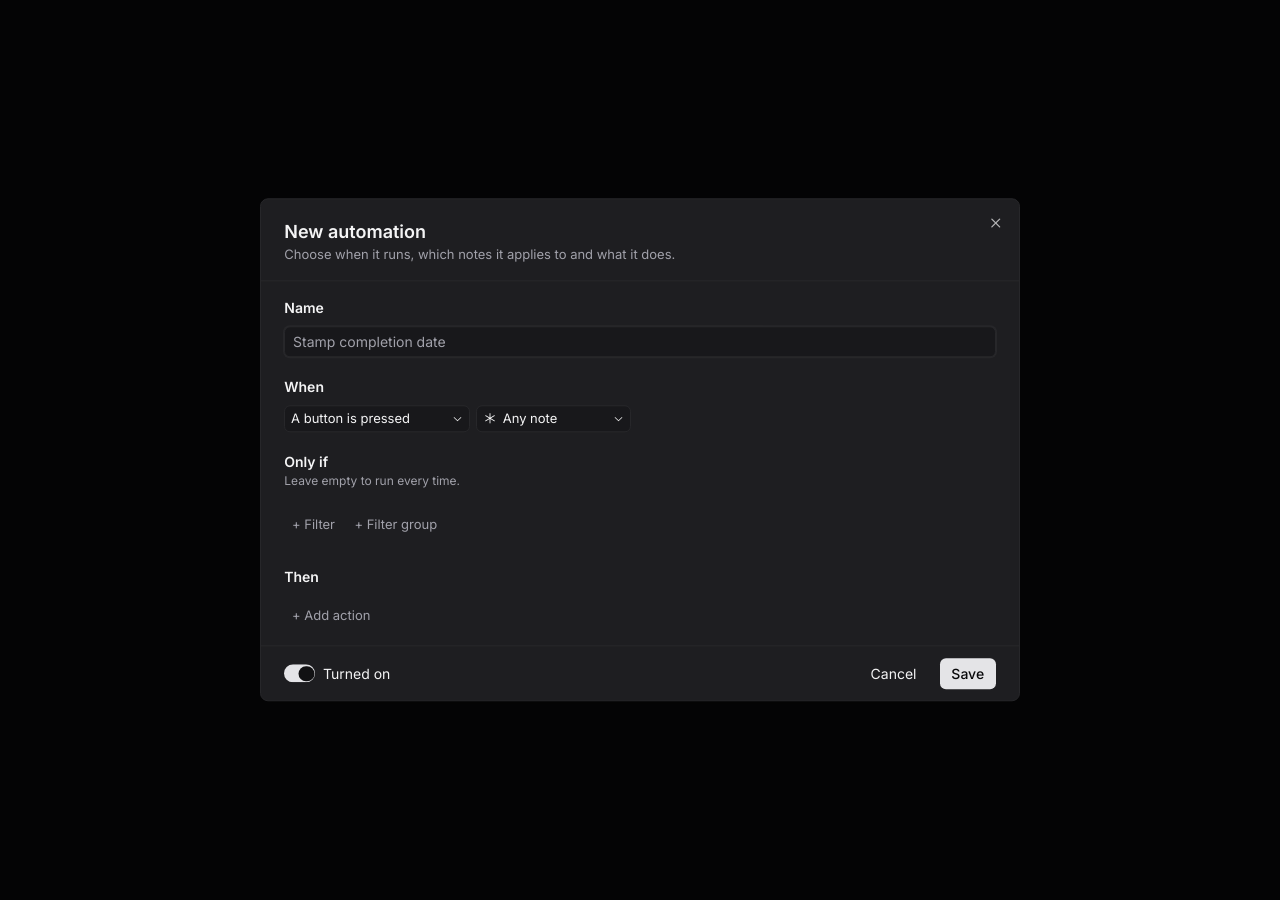
Test: RuleEditorDialog › asks for what is missing before sending
Click the button "Save" at [968, 674], box [940,658,996,689]
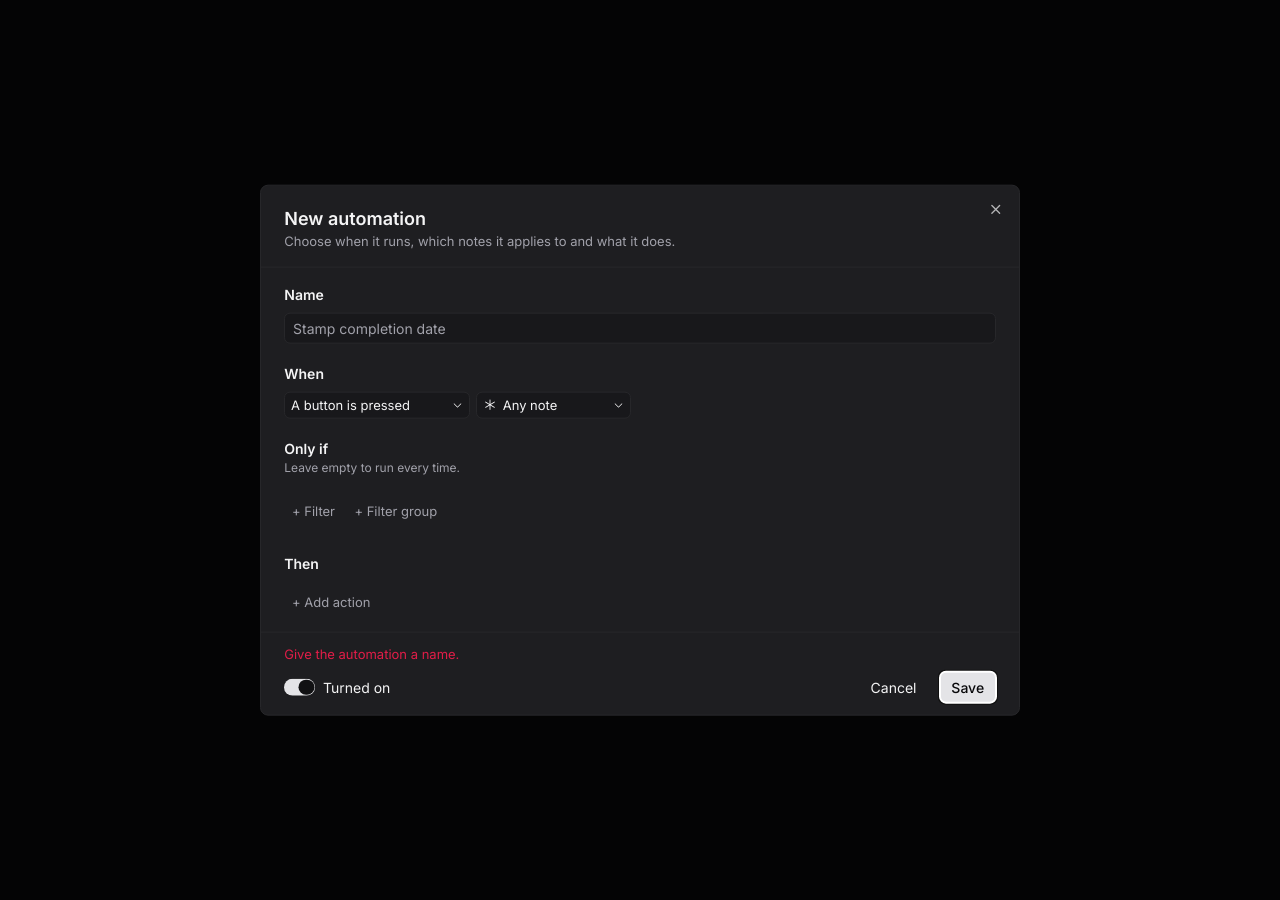
Result: the message reads "Give the automation a name." at [284,646,459,662]
Type "Empty" into the field named "Name" at [640, 328], box [284,312,996,343]
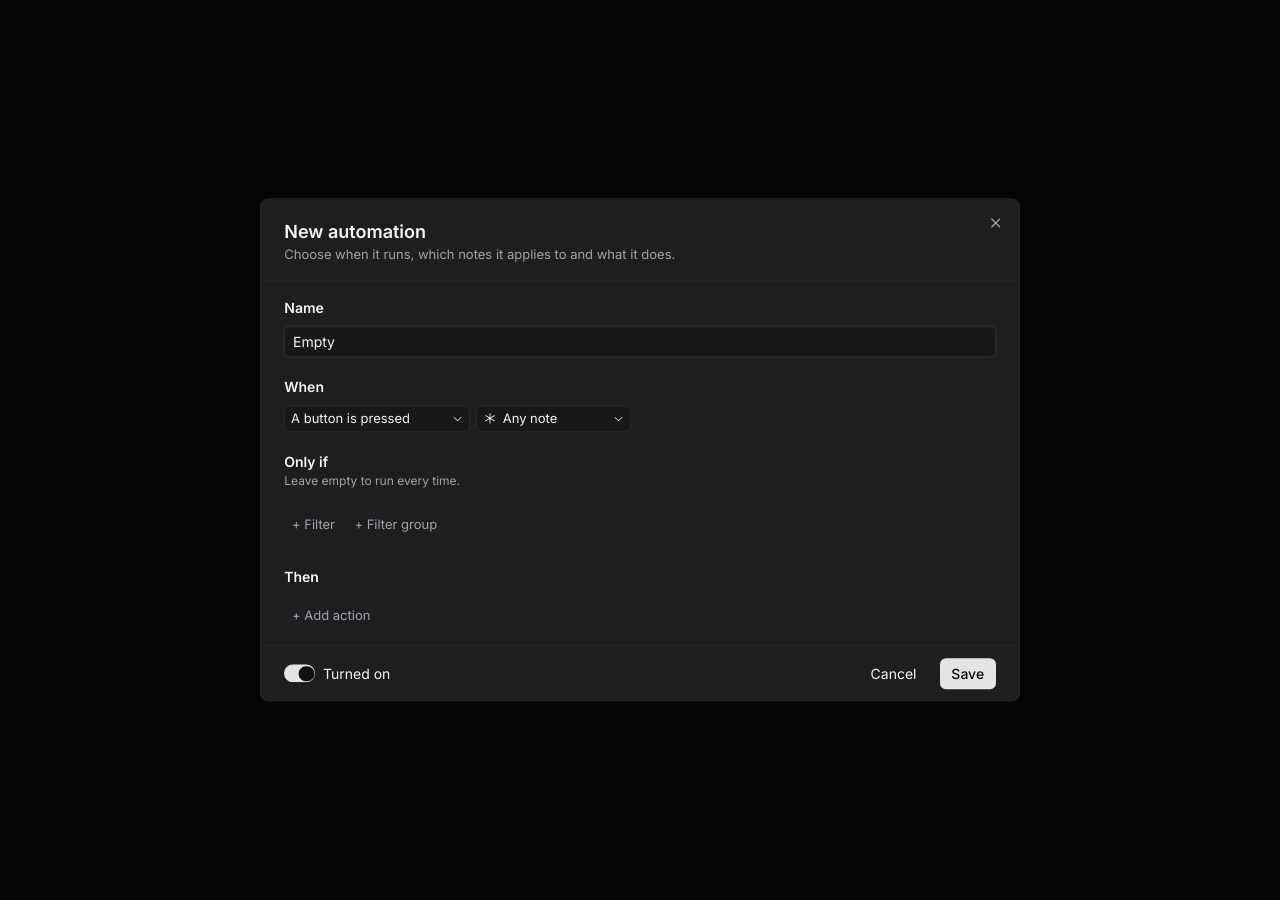
Result: the message "Give the automation a name." is gone
Click the button "Save" at [968, 674], box [940,658,996,689]
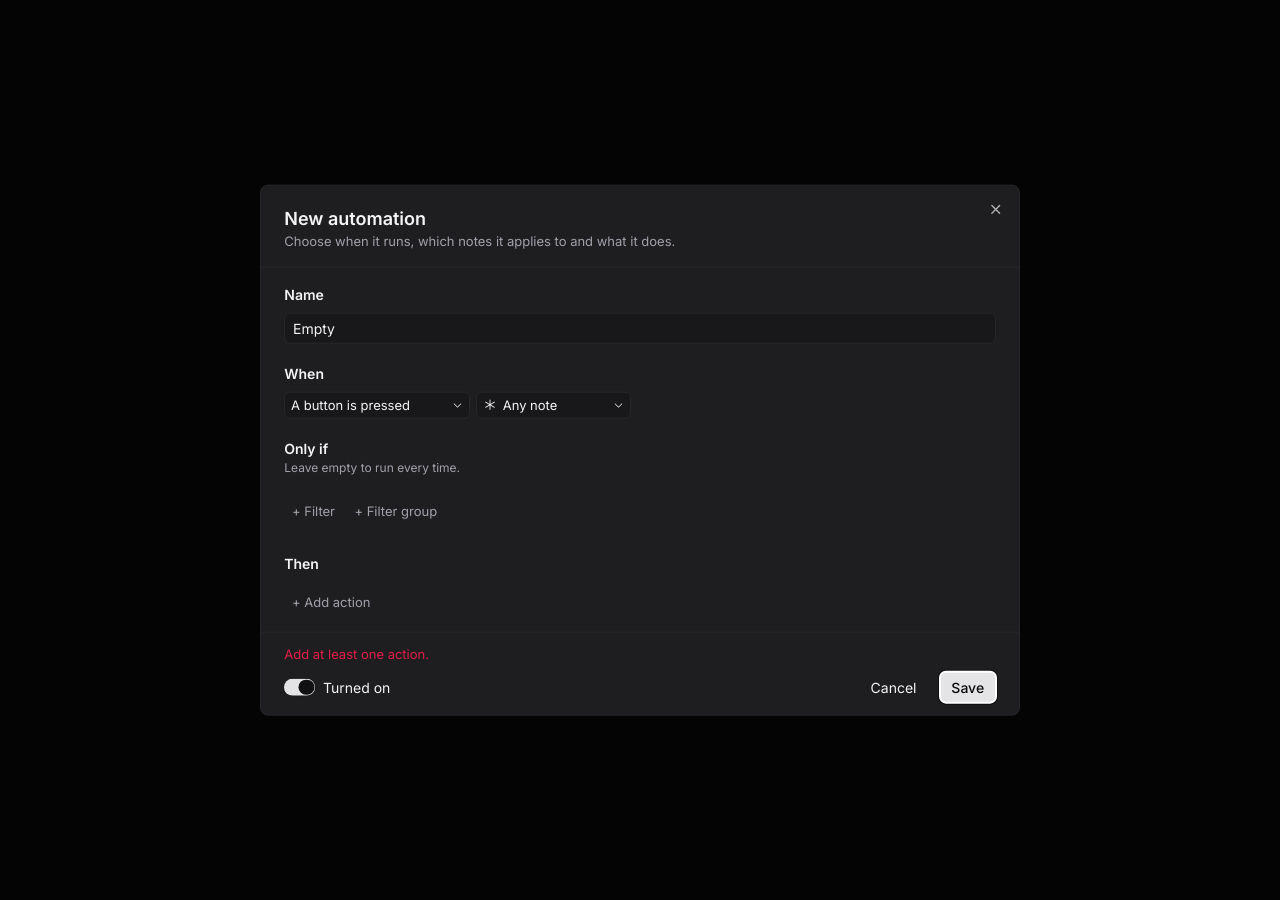
Result: the message reads "Add at least one action." at [284,646,429,662]
